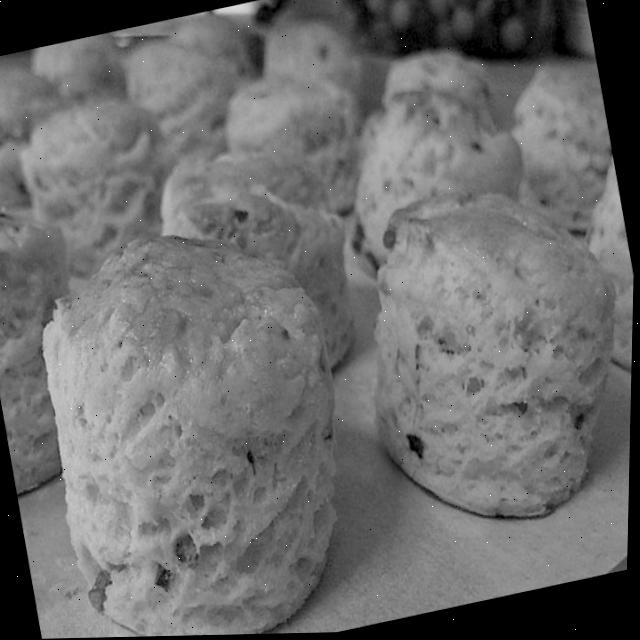面包点心: (4, 190, 390, 640)
